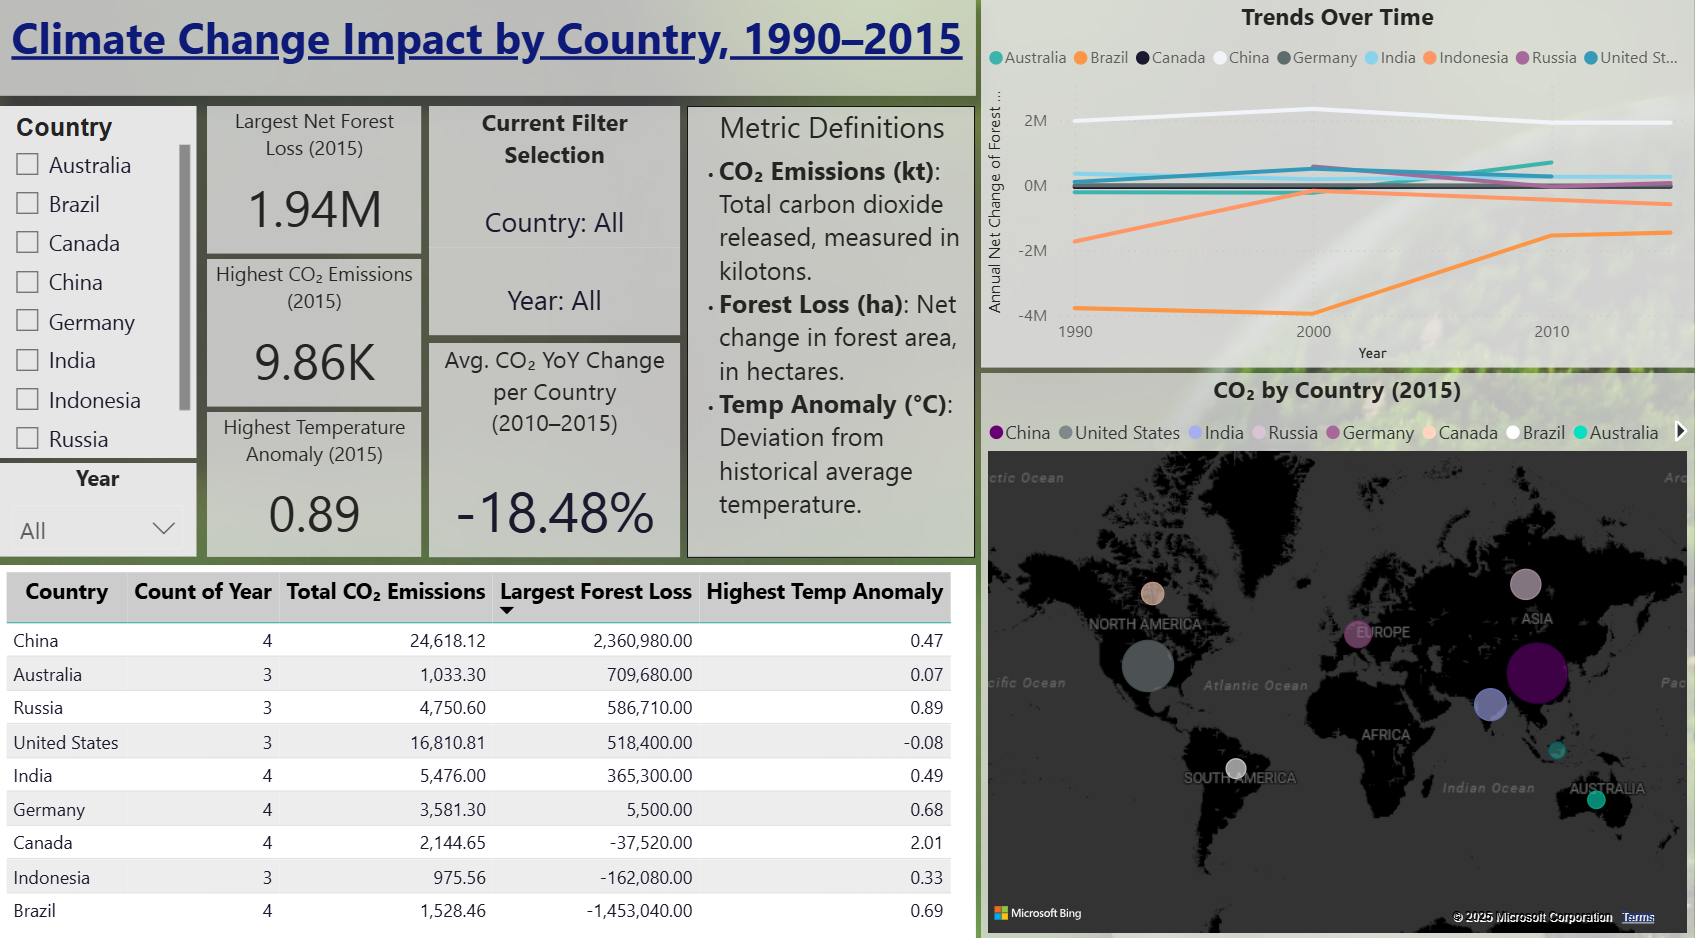

The dashboard page shown, as its layout file describes it:
{"tool":"powerbi","page":{"name":"Page 1","canvas":[1280,720],"ordinal":0},"visuals":[{"type":"textbox","title":"Climate Change Impact by Country, 1990–2015","box":[12.1,12.1,723.8,71.2],"z":0},{"type":"slicer","title":"Country","fields":{"Values":["climate_dashboard_clean.country"]},"box":[12.1,90.9,146.9,260.4],"z":1000},{"type":"slicer","title":"Year","fields":{"Values":["climate_dashboard_clean.Year"]},"box":[12.1,355.8,146.9,69.7],"z":2000},{"type":"card","title":"Highest CO₂ Emissions (2015)","fields":{"Values":["ClimateData.Highest CO2 Emission (2015)"]},"box":[166.6,204.4,159,109],"z":3000},{"type":"card","title":"Highest Temperature Anomaly (2015)","fields":{"Values":["ClimateData.Highest Temperature Anomaly (2015)"]},"box":[166.6,318,159,107.5],"z":4000},{"type":"card","title":"Largest Net Forest Loss (2015)","fields":{"Values":["ClimateData.Largest Net Forest Loss (2015)"]},"box":[166.6,90.9,159,109],"z":5000},{"type":"cardVisual","title":"Avg. CO₂ YoY Change per Country (2010–2015)","fields":{"Data":["ClimateData.CO2 YoY Change (Per Country)"]},"box":[331.6,266.5,186.2,159],"z":6000},{"type":"map","title":"CO₂ by Country (2015)","fields":{"Size":["Sum(ClimateData.co2)"],"Series":["ClimateData.Entity"],"Category":["ClimateData.Entity"]},"box":[740.4,289.2,528.5,419.4],"z":7000},{"type":"lineChart","title":"Trends Over Time","fields":{"Category":["ClimateData.Year"],"Series":["ClimateData.Entity"],"Y":["Sum(ClimateData.Annual net change in forest area)"]},"box":[740.4,12.1,528.5,272.6],"z":8000},{"type":"tableEx","fields":{"Values":["ClimateData.Entity","CountNonNull(ClimateData.Year)","Sum(ClimateData.co2)","Max(ClimateData.Annual net change in forest area)","Max(ClimateData.Temperature anomaly)"]},"box":[12.1,431.5,723.8,277.1],"z":9000},{"type":"textbox","title":"Metric Definitions","box":[522.4,90.9,213.5,334.6],"z":10000},{"type":"cardVisual","title":"Current Filter Selection","fields":{"Data":["ClimateData.FilterSummary2"]},"box":[331.6,90.9,186.2,104.5],"z":11000},{"type":"cardVisual","title":"Current Filter Selection","fields":{"Data":["ClimateData.FilterSummary"]},"box":[331.6,195.3,186.2,65.1],"z":11001}]}

Visuals, with their boxes in screenshot pixels (x1, y1, x2, y2), scaled from the page's 1280x720 canvas onto the 1695x938 screenshot:
"Climate Change Impact by Country, 1990–2015" textbox: [16,16,974,109]
"Country" slicer: [16,118,211,458]
"Year" slicer: [16,464,211,554]
"Highest CO₂ Emissions (2015)" card: [221,266,431,408]
"Highest Temperature Anomaly (2015)" card: [221,414,431,554]
"Largest Net Forest Loss (2015)" card: [221,118,431,260]
"Avg. CO₂ YoY Change per Country (2010–2015)" cardVisual: [439,347,686,554]
"CO₂ by Country (2015)" map: [980,377,1680,923]
"Trends Over Time" lineChart: [980,16,1680,371]
tableEx - ClimateData.Entity x CountNonNull(ClimateData.Year): [16,562,974,923]
"Metric Definitions" textbox: [692,118,974,554]
"Current Filter Selection" cardVisual: [439,118,686,255]
"Current Filter Selection" cardVisual: [439,254,686,339]
